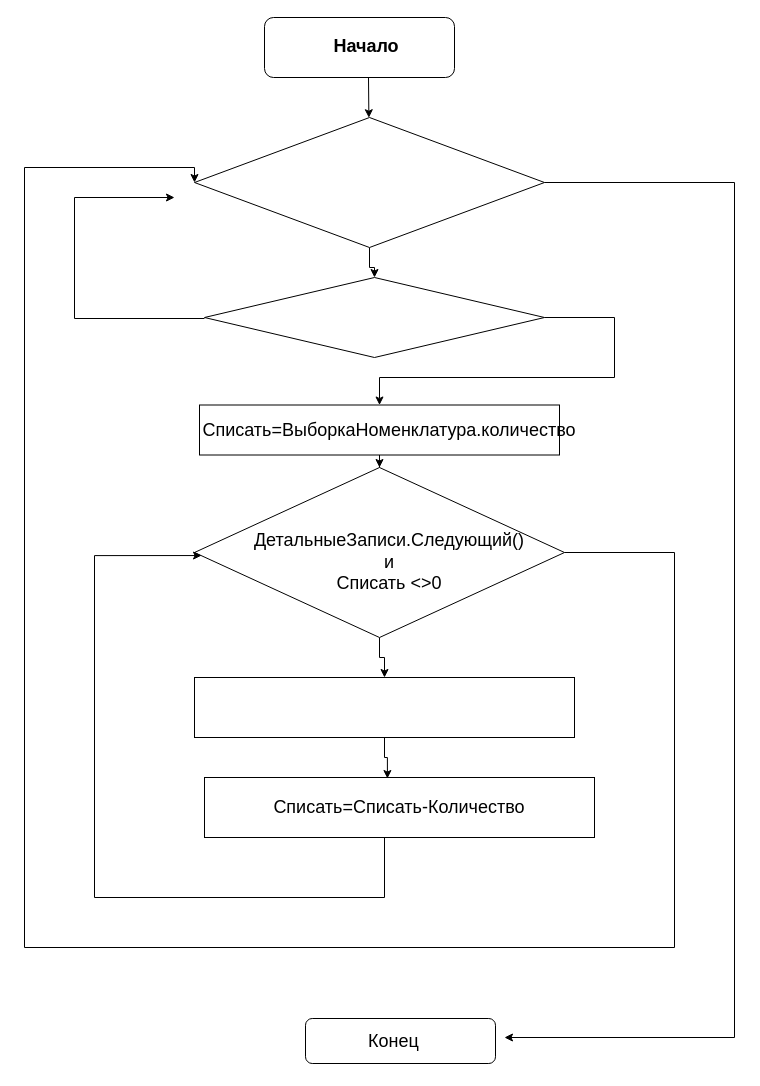
Some shapes in this 760 by 1086 pixel diagram are drawn without their labels. The box of each missing label's shape, as (x1, y1, x2, y2) in pixels:
ВыборкаНоменклатура. Следующий(): (194, 116, 544, 248)
Количество >КоличествоОстаток: (204, 276, 544, 358)
Количество=МИН(ДетальныеЗаписи.Кол-во ПоПартиям, Списать): (194, 676, 574, 738)
